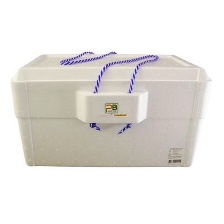foam_box: (5, 44, 215, 172)
